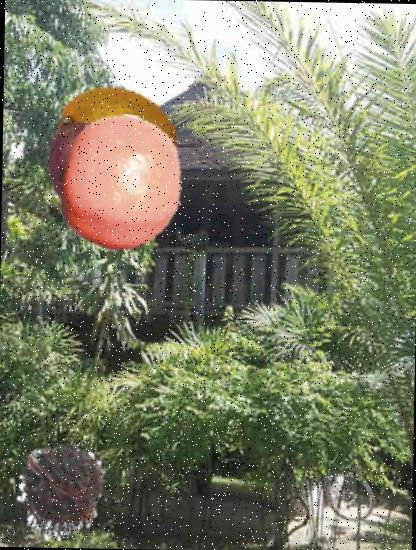Apple: (46, 118, 144, 216)
Clementine: (49, 113, 190, 252)
Lemon: (54, 78, 180, 204)
Rambutan: (3, 438, 113, 548)
